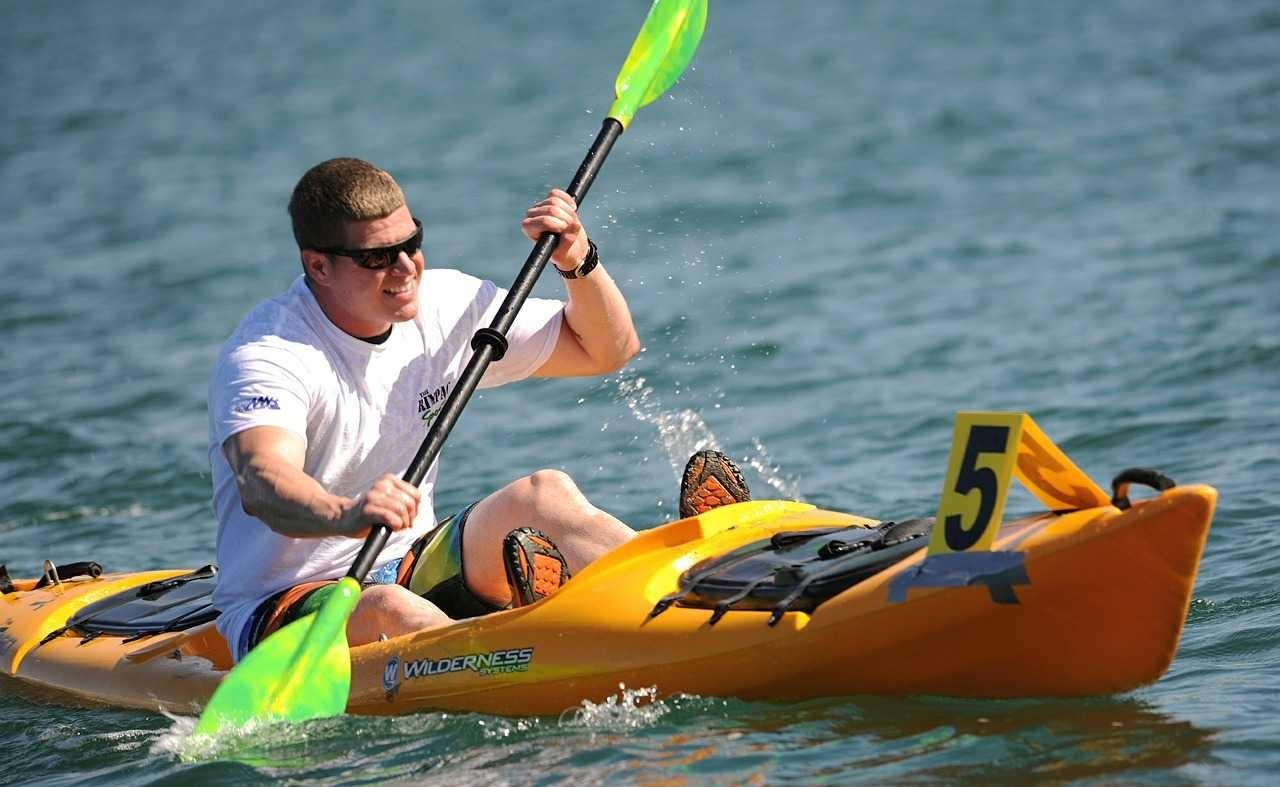kayak: (0, 403, 1218, 736)
